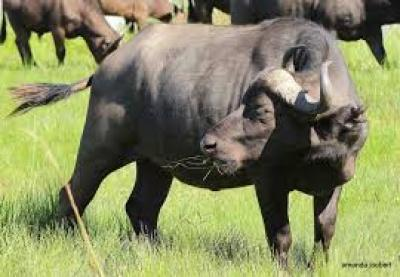buffalo: (17, 17, 369, 268)
